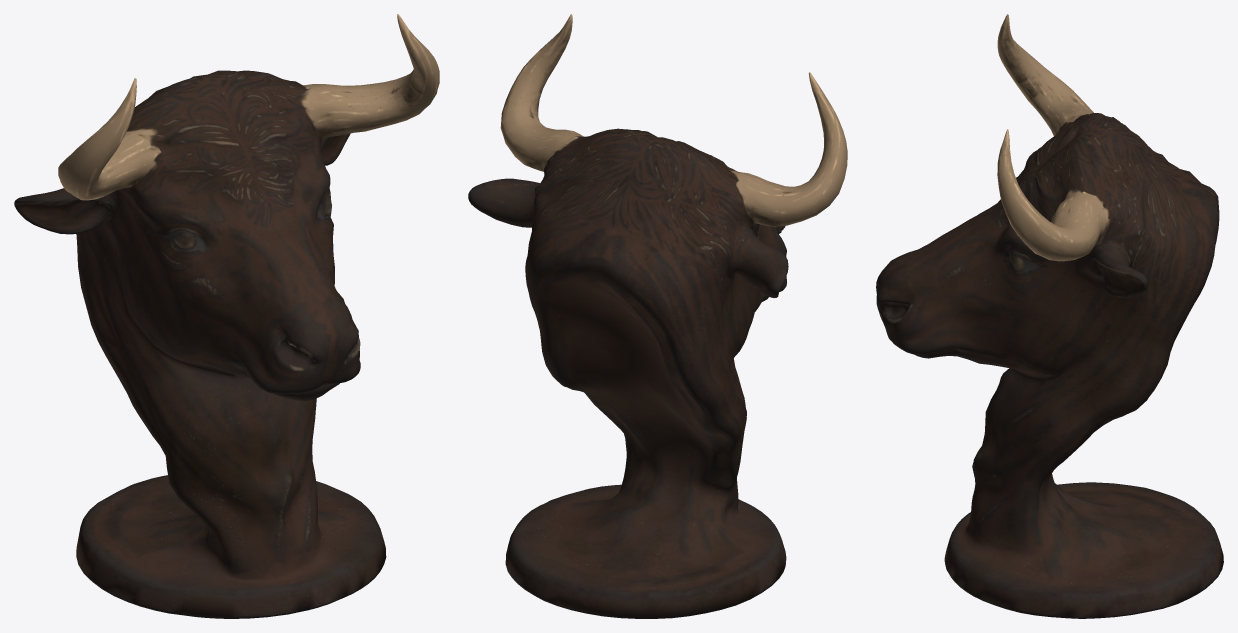
The model's file is bull_head.glb.
The picture shows the model from 3 angles, left to right: view 1: azimuth 30°, elevation 25°; view 2: azimuth 150°, elevation 25°; view 3: azimuth 270°, elevation 25°; orthographic projection. The views are drawn at different scales.
Visible parts, largest first — view 1: bull_head; view 2: bull_head; view 3: bull_head.
Boxes of the visible parts, <box> form: bull_head: <box>14,14,439,618</box>; bull_head: <box>468,14,847,618</box>; bull_head: <box>876,14,1223,618</box>.
Bounding box in the file's own units: 2.48 × 3.5 × 2.27.
1 material, 1 textured.
